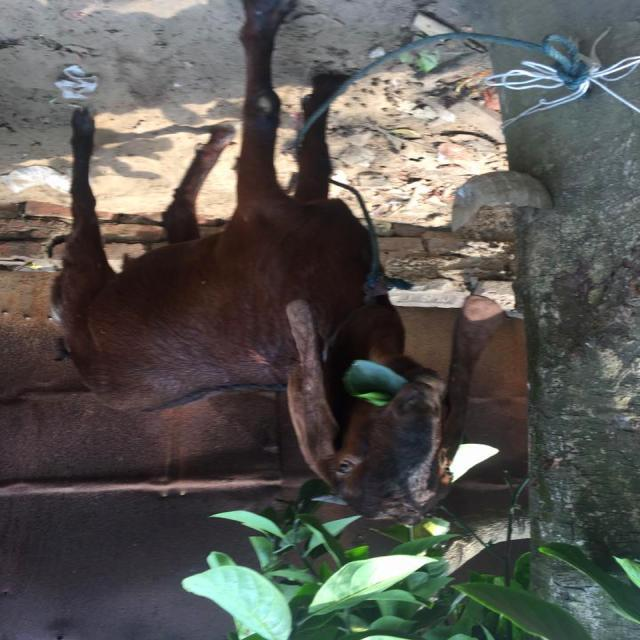Goat: (49, 1, 509, 528)
